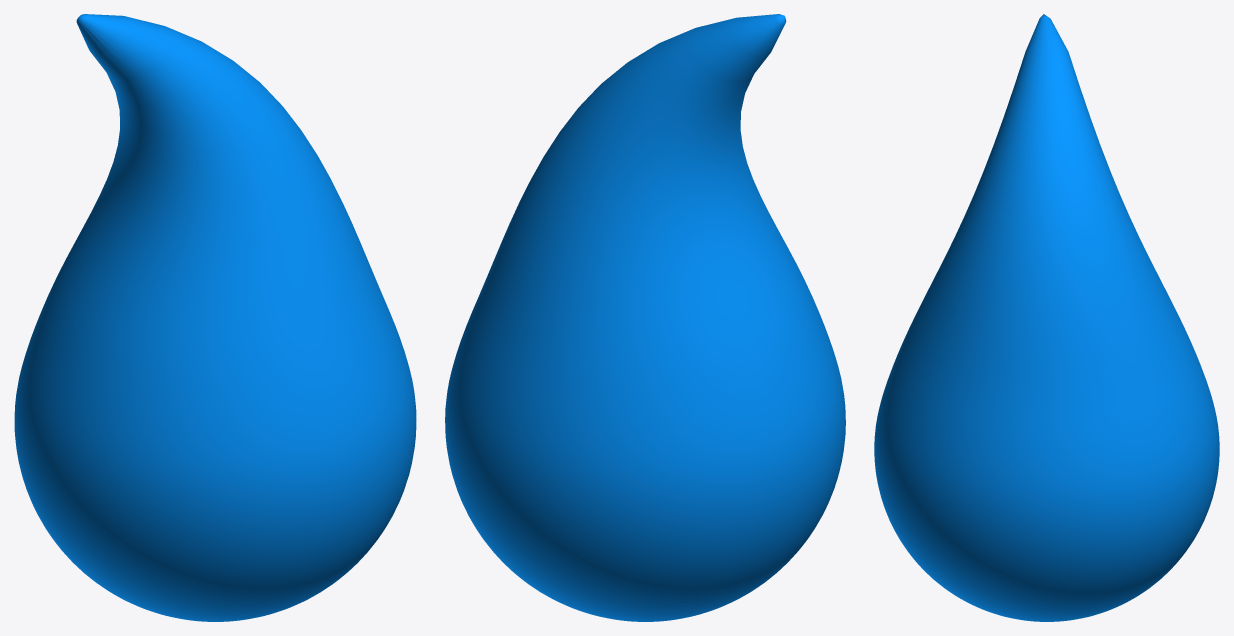
File: drop.fbx
3 views of the same model, side by side, from view 1: azimuth 30°, elevation 25°; view 2: azimuth 150°, elevation 25°; view 3: azimuth 270°, elevation 25° (orthographic). The views are drawn at different scales.
Visible parts, largest first — view 1: Sphere; view 2: Sphere; view 3: Sphere.
Part boxes in pixels (<box>): Sphere: <box>14,14,416,621</box>; Sphere: <box>445,14,845,621</box>; Sphere: <box>874,14,1219,621</box>.
Bounding box in the file's own units: 20 × 34.1 × 20.
